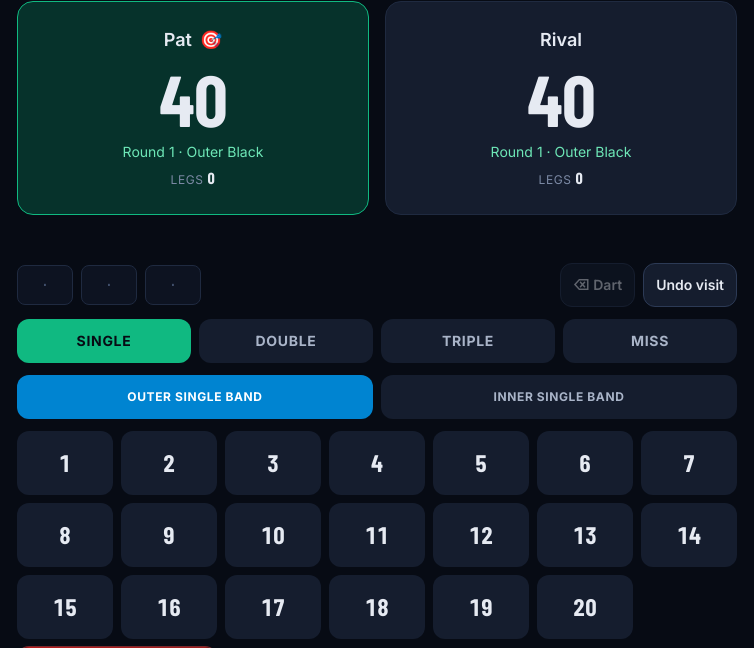
LiveScoringPage Halve It feedback › shows +N when the round added points
Click the button "20".
click(585, 607)  # box left=537, top=575, right=633, bottom=639
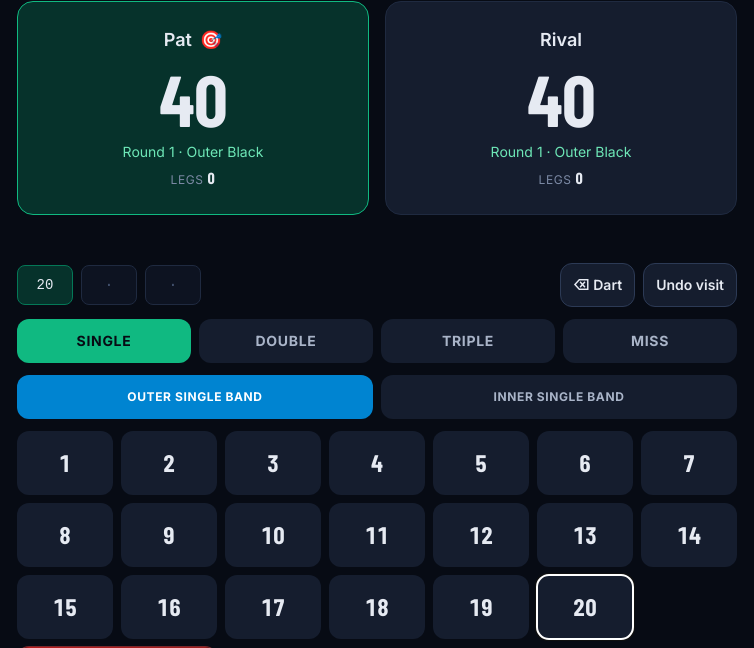
Click the button "20".
click(585, 607)  # box left=537, top=575, right=633, bottom=639
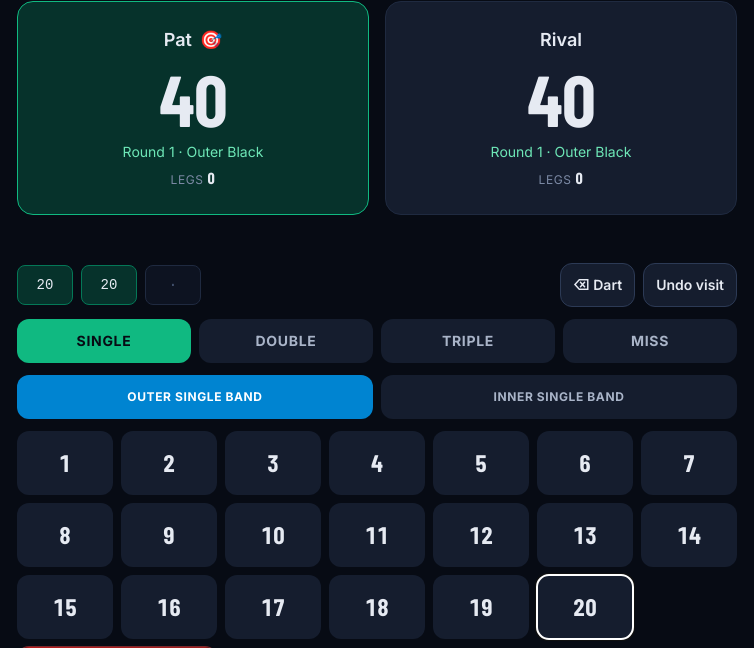
Click the button "20".
click(585, 607)  # box left=537, top=575, right=633, bottom=639
(page scrolled)
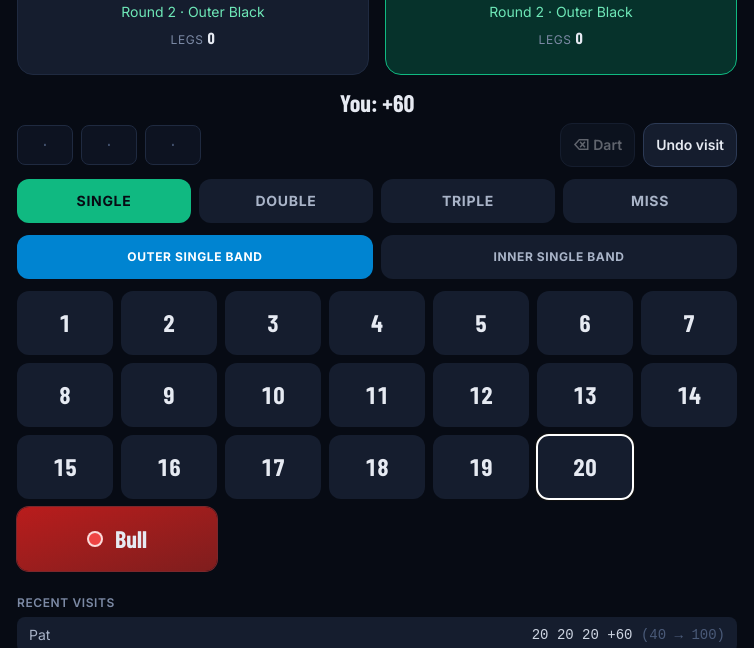
expect the message reads "You: +60": met, box left=340, top=88, right=414, bottom=117
